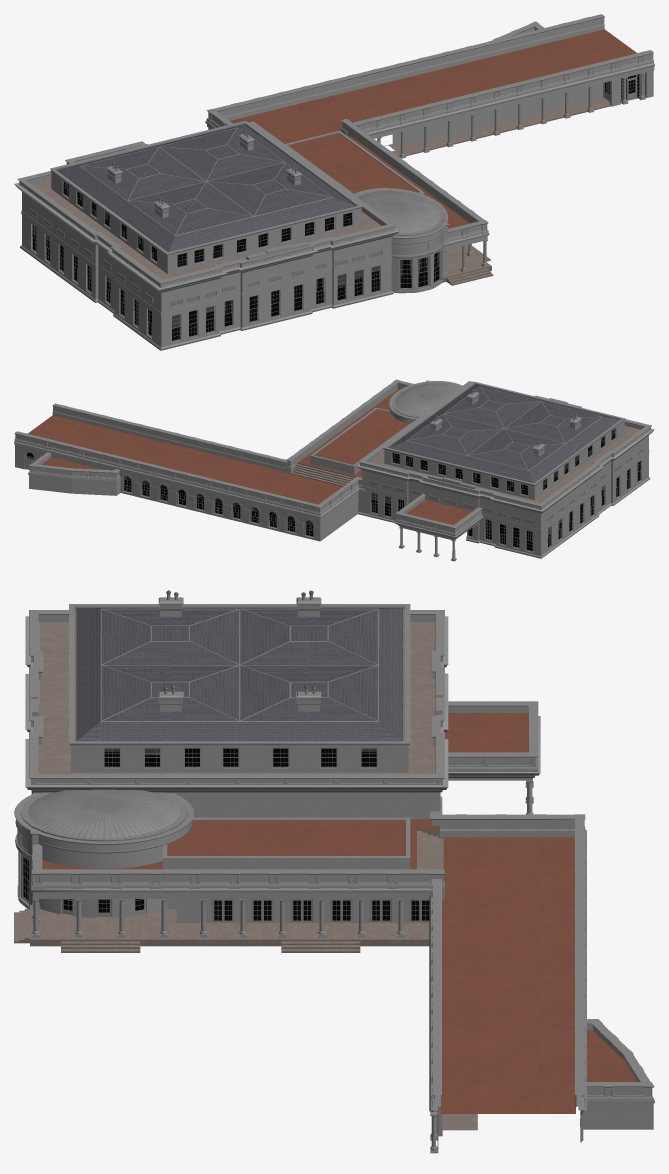
File: white-house-west-v2.glb
3 renders of one model, top to bottom at view 1: azimuth 30°, elevation 25°; view 2: azimuth 150°, elevation 25°; view 3: azimuth 270°, elevation 25°, orthographic. The views are drawn at different scales.
Visible parts, largest first — view 1: Object_9; view 2: Object_9; view 3: Object_9.
Part boxes in pixels (x1,y1,x2,y2): Object_9: (14, 14, 654, 350); Object_9: (14, 379, 654, 561); Object_9: (14, 590, 654, 1153).
Bounding box in the file's own units: 77.32 × 12.39 × 46.43.
1 material, 1 textured.
